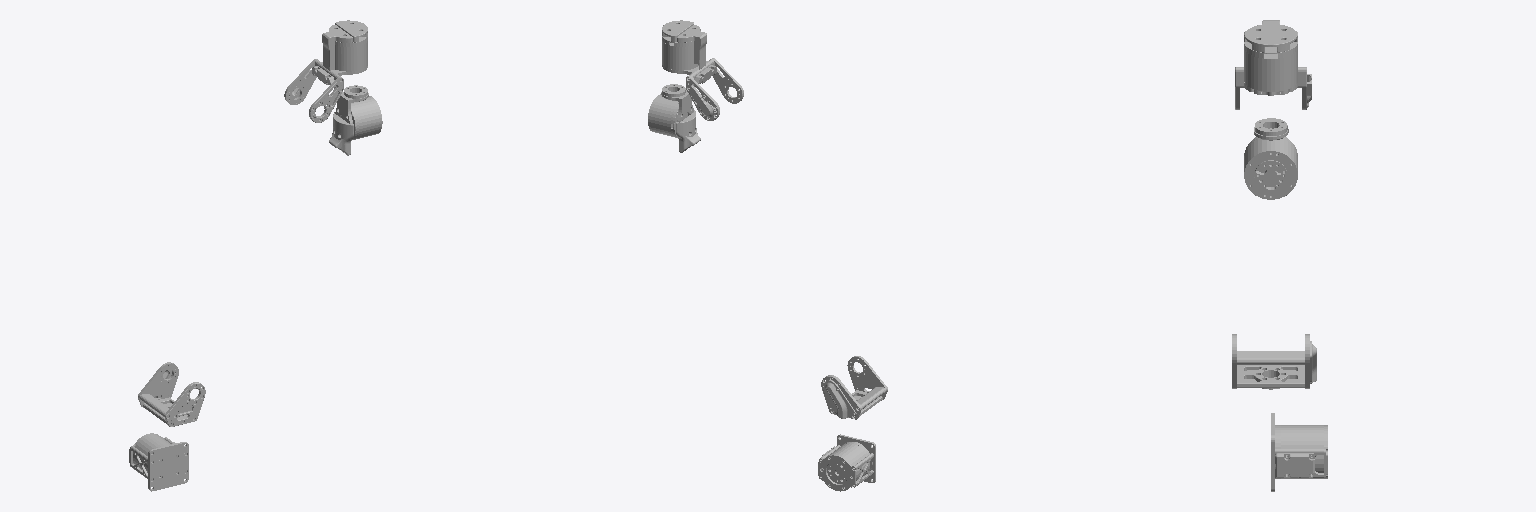
robot.urdf — leader:
<?xml version="1.0" encoding="utf-8"?>
<!-- This URDF was automatically created by SolidWorks to URDF Exporter! Originally created by [author] ([email redacted])
     Commit Version: 1.6.0-4-g7f85cfe  Build Version: 1.6.7995.38578
     For more information, please see http://wiki.ros.org/sw_urdf_exporter -->
<robot name="leader">
  <link
    name="base_link">
    <inertial>
      <origin
        xyz="0.00010756571967135 -2.02726537459036E-05 0.0343566351665907"
        rpy="-1.57079632679 0 0" />
      <mass
        value="0.506427227378768" />
      <inertia
        ixx="0.000410849158294362"
        ixy="-2.6390857577999E-12"
        ixz="6.4642046779666E-08"
        iyy="0.000410583719677176"
        iyz="8.11610951346684E-09"
        izz="0.000748456860289781" />
    </inertial>
    <visual>
      <origin
        xyz="0 0 0"
        rpy="-1.57079632679 0 0" />
      <geometry>
        <mesh
          filename="package://trossen_arm_description/meshes/leader/base_link.stl" />
      </geometry>
      <material
        name="">
        <color
          rgba="0.752941176470588 0.752941176470588 0.752941176470588 1" />
      </material>
    </visual>
    <collision>
      <origin
        xyz="0 0 0"
        rpy="-1.57079632679 0 0" />
      <geometry>
        <mesh
          filename="package://trossen_arm_description/meshes/leader/base_link.stl" />
      </geometry>
    </collision>
  </link>
  <link
    name="link_1">
    <inertial>
      <origin
        xyz="0.0183087687009895 -0.00169029827830938 0.0313917966334055"
        rpy="0 0 0" />
      <mass
        value="0.170036201199718" />
      <inertia
        ixx="6.64163178287466E-05"
        ixy="3.19906518866073E-13"
        ixz="-1.15422775710597E-07"
        iyy="6.97138403587758E-05"
        iyz="8.11589333400231E-09"
        izz="7.34348406475318E-05" />
    </inertial>
    <visual>
      <origin
        xyz="0 0 0"
        rpy="0 0 0" />
      <geometry>
        <mesh
          filename="package://trossen_arm_description/meshes/leader/link_1.stl" />
      </geometry>
      <material
        name="">
        <color
          rgba="0.752941176470588 0.752941176470588 0.752941176470588 1" />
      </material>
    </visual>
    <collision>
      <origin
        xyz="0 0 0"
        rpy="0 0 0" />
      <geometry>
        <mesh
          filename="package://trossen_arm_description/meshes/leader/link_1.stl" />
      </geometry>
    </collision>
  </link>
  <joint
    name="joint_0"
    type="revolute">
    <origin
      xyz="0 0 0.081223"
      rpy="0 0 0" />
    <parent
      link="base_link" />
    <child
      link="link_1" />
    <axis
      xyz="0 0 1" />
    <limit
      lower="-3.14159265359"
      upper="3.14159265359"
      effort="0"
      velocity="0" />
  </joint>
  <link
    name="link_2">
    <inertial>
      <origin
        xyz="0.00865539205163852 -0.000520109652861108 0.216602533083434"
        rpy="0 0 0" />
      <mass
        value="0.54100320866163" />
      <inertia
        ixx="0.00137090051100915"
        ixy="7.01777343227621E-09"
        ixz="-5.84588421589974E-06"
        iyy="0.00136565822034603"
        iyz="-4.03578240311136E-09"
        izz="0.000107501803426731" />
    </inertial>
    <visual>
      <origin
        xyz="0 0 0"
        rpy="0 0 0" />
      <geometry>
        <mesh
          filename="package://trossen_arm_description/meshes/leader/link_2.stl" />
      </geometry>
      <material
        name="">
        <color
          rgba="0.752941176470588 0.752941176470588 0.752941176470588 1" />
      </material>
    </visual>
    <collision>
      <origin
        xyz="0 0 0"
        rpy="0 0 0" />
      <geometry>
        <mesh
          filename="package://trossen_arm_description/meshes/leader/link_2.stl" />
      </geometry>
    </collision>
  </link>
  <joint
    name="joint_1"
    type="revolute">
    <origin
      xyz="0.02 0 0.035"
      rpy="0 0 0" />
    <parent
      link="link_1" />
    <child
      link="link_2" />
    <axis
      xyz="0 -1 0" />
    <limit
      lower="-2.4"
      upper="1.87"
      effort="0"
      velocity="0" />
  </joint>
  <link
    name="link_3">
    <inertial>
      <origin
        xyz="0.116840604141165 -0.000678737535719068 0.0537736076061675"
        rpy="0 0 0" />
      <mass
        value="0.303446681927526" />
      <inertia
        ixx="9.61115485045656E-05"
        ixy="-4.05930567102677E-09"
        ixz="-2.33283733883263E-05"
        iyy="0.000199643341936564"
        iyz="-7.00409767018677E-09"
        izz="0.000158700505319796" />
    </inertial>
    <visual>
      <origin
        xyz="0 0 0"
        rpy="0 0 0" />
      <geometry>
        <mesh
          filename="package://trossen_arm_description/meshes/leader/link_3.stl" />
      </geometry>
      <material
        name="">
        <color
          rgba="0.752941176470588 0.752941176470588 0.752941176470588 1" />
      </material>
    </visual>
    <collision>
      <origin
        xyz="0 0 0"
        rpy="0 0 0" />
      <geometry>
        <mesh
          filename="package://trossen_arm_description/meshes/leader/link_3.stl" />
      </geometry>
    </collision>
  </link>
  <joint
    name="joint_2"
    type="revolute">
    <origin
      xyz="0.03 0 0.35"
      rpy="0 0 0" />
    <parent
      link="link_2" />
    <child
      link="link_3" />
    <axis
      xyz="0 -1 0" />
    <limit
      lower="-1.86"
      upper="2.28"
      effort="0"
      velocity="0" />
  </joint>
  <link
    name="link_4">
    <inertial>
      <origin
        xyz="0.0636872025032118 4.15835862129295E-05 -0.000847055499594185"
        rpy="0 0 0" />
      <mass
        value="0.211552053843195" />
      <inertia
        ixx="0.000115244428123329"
        ixy="-2.20918148593346E-08"
        ixz="8.11555403596931E-09"
        iyy="8.75465189519851E-05"
        iyz="4.013458582149E-13"
        izz="0.000129727809308006" />
    </inertial>
    <visual>
      <origin
        xyz="0 0 0"
        rpy="0 0 0" />
      <geometry>
        <mesh
          filename="package://trossen_arm_description/meshes/leader/link_4.stl" />
      </geometry>
      <material
        name="">
        <color
          rgba="0.752941176470588 0.752941176470588 0.752941176470588 1" />
      </material>
    </visual>
    <collision>
      <origin
        xyz="0 0 0"
        rpy="0 0 0" />
      <geometry>
        <mesh
          filename="package://trossen_arm_description/meshes/leader/link_4.stl" />
      </geometry>
    </collision>
  </link>
  <joint
    name="joint_3"
    type="revolute">
    <origin
      xyz="0.181 0 0.06"
      rpy="0 0 0" />
    <parent
      link="link_3" />
    <child
      link="link_4" />
    <axis
      xyz="0 -1 0" />
    <limit
      lower="-2.42"
      upper="2.42"
      effort="0"
      velocity="0" />
  </joint>
  <link
    name="link_5">
    <inertial>
      <origin
        xyz="0.0688637418742179 -9.39598169223825E-09 -7.97490030540748E-05"
        rpy="0 0 0" />
      <mass
        value="0.206020694234339" />
      <inertia
        ixx="0.0001192555825672"
        ixy="1.28788670527638E-12"
        ixz="8.11487714374462E-09"
        iyy="0.000113486758261954"
        iyz="-2.20920499570922E-08"
        izz="7.43490729486467E-05" />
    </inertial>
    <visual>
      <origin
        xyz="0 0 0"
        rpy="0 0 0" />
      <geometry>
        <mesh
          filename="package://trossen_arm_description/meshes/leader/link_5.stl" />
      </geometry>
      <material
        name="">
        <color
          rgba="0.752941176470588 0.752941176470588 0.752941176470588 1" />
      </material>
    </visual>
    <collision>
      <origin
        xyz="0 0 0"
        rpy="0 0 0" />
      <geometry>
        <mesh
          filename="package://trossen_arm_description/meshes/leader/link_5.stl" />
      </geometry>
    </collision>
  </link>
  <joint
    name="joint_4"
    type="revolute">
    <origin
      xyz="0.08 0 0.0002"
      rpy="0 0 0" />
    <parent
      link="link_4" />
    <child
      link="link_5" />
    <axis
      xyz="0 0 -1" />
    <limit
      lower="-1.93"
      upper="1.93"
      effort="0"
      velocity="0" />
  </joint>
  <link
    name="gripper">
    <inertial>
      <origin
        xyz="0.0409143776757902 -0.00152071964896791 -0.0283260839735004"
        rpy="0 0 0" />
      <mass
        value="0.429245714150025" />
      <inertia
        ixx="0.000365804872293683"
        ixy="-7.45462945083529E-07"
        ixz="-3.38567206241593E-05"
        iyy="0.000251497793585492"
        iyz="-3.88856708726478E-06"
        izz="0.000174494714759548" />
    </inertial>
    <visual>
      <origin
        xyz="0 0 0"
        rpy="0 0 0" />
      <geometry>
        <mesh
          filename="package://trossen_arm_description/meshes/leader/gripper.stl" />
      </geometry>
      <material
        name="">
        <color
          rgba="0.752941176470588 0.752941176470588 0.752941176470588 1" />
      </material>
    </visual>
    <collision>
      <origin
        xyz="0 0 0"
        rpy="0 0 0" />
      <geometry>
        <mesh
          filename="package://trossen_arm_description/meshes/leader/gripper.stl" />
      </geometry>
    </collision>
  </link>
  <joint
    name="joint_5"
    type="revolute">
    <origin
      xyz="0.10353 0 0"
      rpy="0 0 0" />
    <parent
      link="link_5" />
    <child
      link="gripper" />
    <axis
      xyz="1 0 0" />
    <limit
      lower="-3.14159265359"
      upper="3.14159265359"
      effort="0"
      velocity="0" />
  </joint>
</robot>

--- Render facts (derived) ---
3 views of the same robot in one strip: view 1: azimuth 30°, elevation 25°; view 2: azimuth 150°, elevation 25°; view 3: azimuth 270°, elevation 25° (orthographic).
Robot: leader — 7 links, 6 joints (6 revolute); root link base_link; default pose: every joint at zero.
Visible links, largest first — view 1: link_4, base_link, link_1, link_5; view 2: link_4, base_link, link_1, link_5; view 3: link_4, link_5, link_1, base_link.
Boxes of the visible links, box(x1,y1,x2,y2) form: link_4: box(284, 20, 367, 122); base_link: box(129, 433, 188, 491); link_1: box(138, 362, 205, 426); link_5: box(329, 85, 382, 155); link_4: box(662, 20, 743, 120); base_link: box(818, 434, 875, 491); link_1: box(821, 356, 887, 419); link_5: box(648, 84, 700, 152); link_4: box(1235, 20, 1311, 109); link_5: box(1244, 118, 1297, 199); link_1: box(1232, 334, 1316, 389); base_link: box(1271, 413, 1327, 491).
Bounding box of the posed robot: 0.3724 × 0.1016 × 0.6602 m (x, y, z).
Meshes: 7 distinct files referenced, 4 mesh visuals loaded (4 binary STL); not drawn: 3 (reference not matched to a file when rendering).